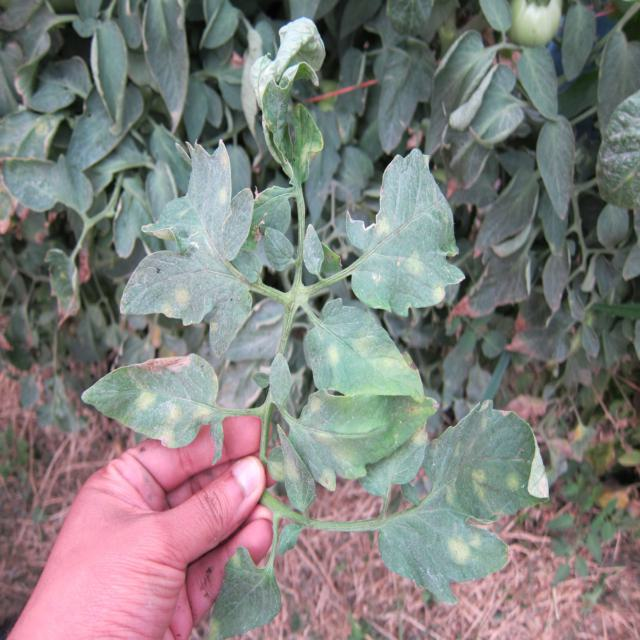Leaf_Mold: (445, 528, 483, 564), (159, 282, 189, 324), (405, 401, 433, 446), (464, 459, 491, 502), (323, 342, 347, 371), (135, 386, 156, 415), (427, 275, 450, 301), (372, 213, 392, 236)
